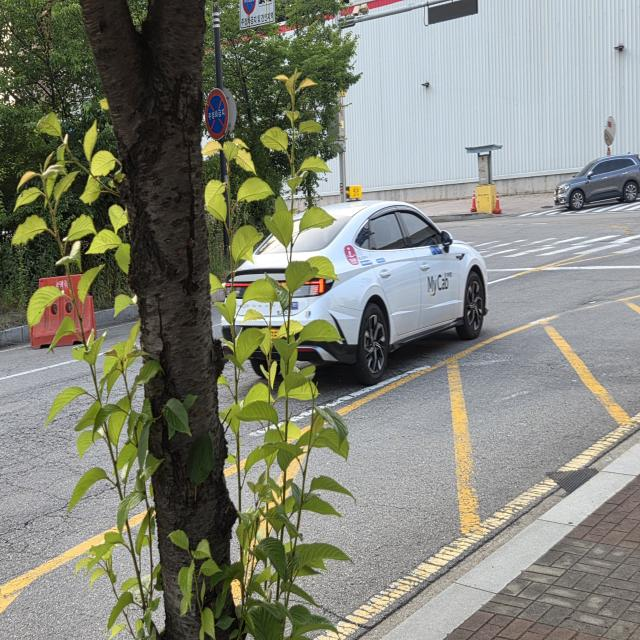car: (212, 172, 510, 411)
